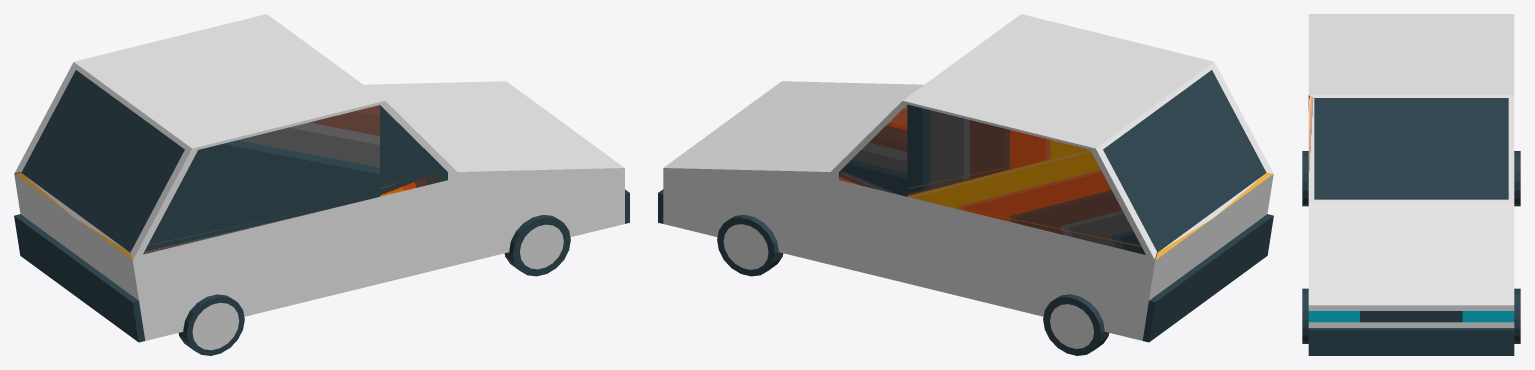
File: car_3_3.dae
3 renders of one model, left to right at view 1: azimuth 30°, elevation 25°; view 2: azimuth 150°, elevation 25°; view 3: azimuth 270°, elevation 25°, orthographic. The views are drawn at different scales.
Parts seen in each view (by area): view 1: CAR_03.1_1.001; view 2: CAR_03.1_1.001; view 3: CAR_03.1_1.001.
Boxes of the visible parts, box(x1,y1,x2,y2) form: CAR_03.1_1.001: box(14, 14, 629, 355); CAR_03.1_1.001: box(658, 14, 1273, 355); CAR_03.1_1.001: box(1302, 14, 1520, 355).
Size of the model in its own units: 4.5 by 1.97 by 1.81.
Materials: 1 (1 with a texture image).
